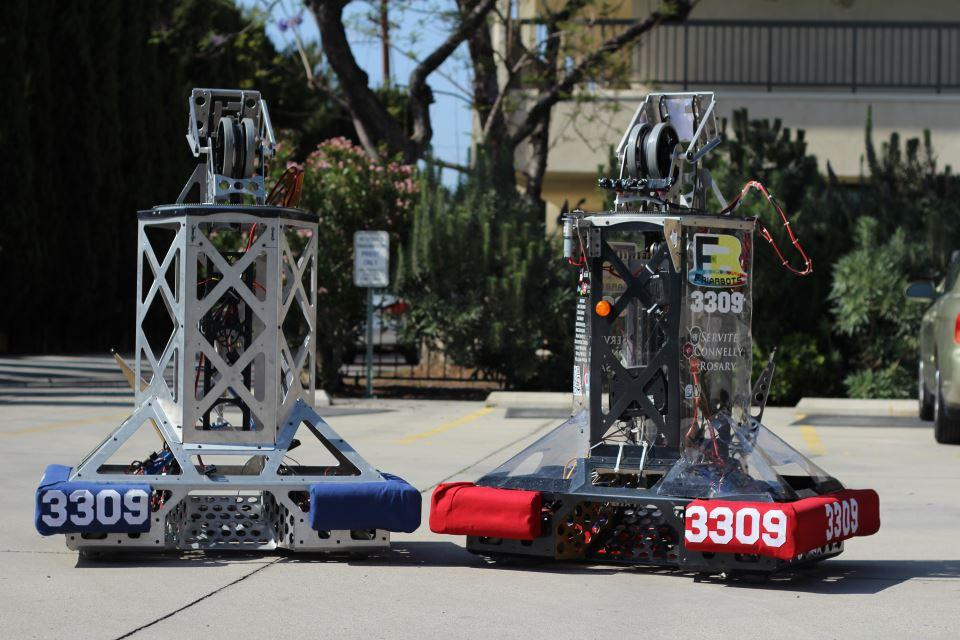robot: (429, 89, 881, 573), (31, 83, 423, 556)
